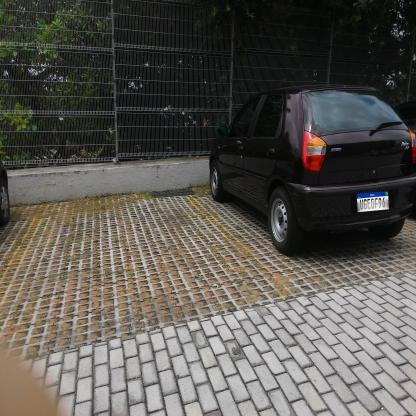PlacaM: (356, 190, 390, 213)
